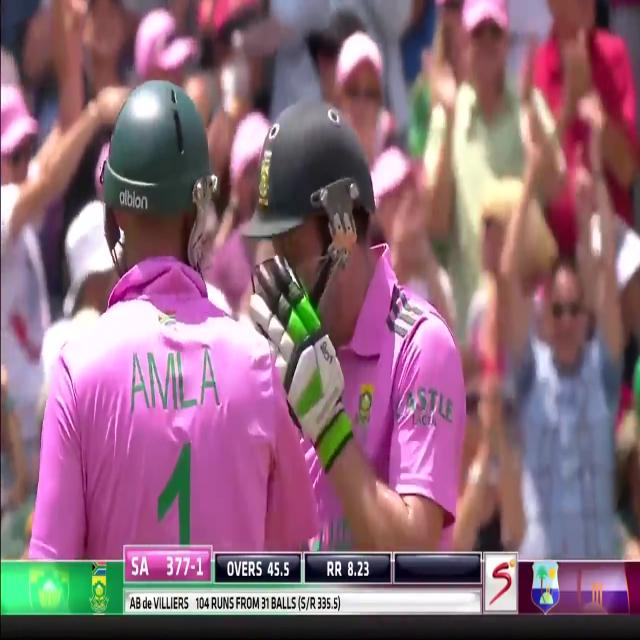Ball: (17, 82, 334, 554)
